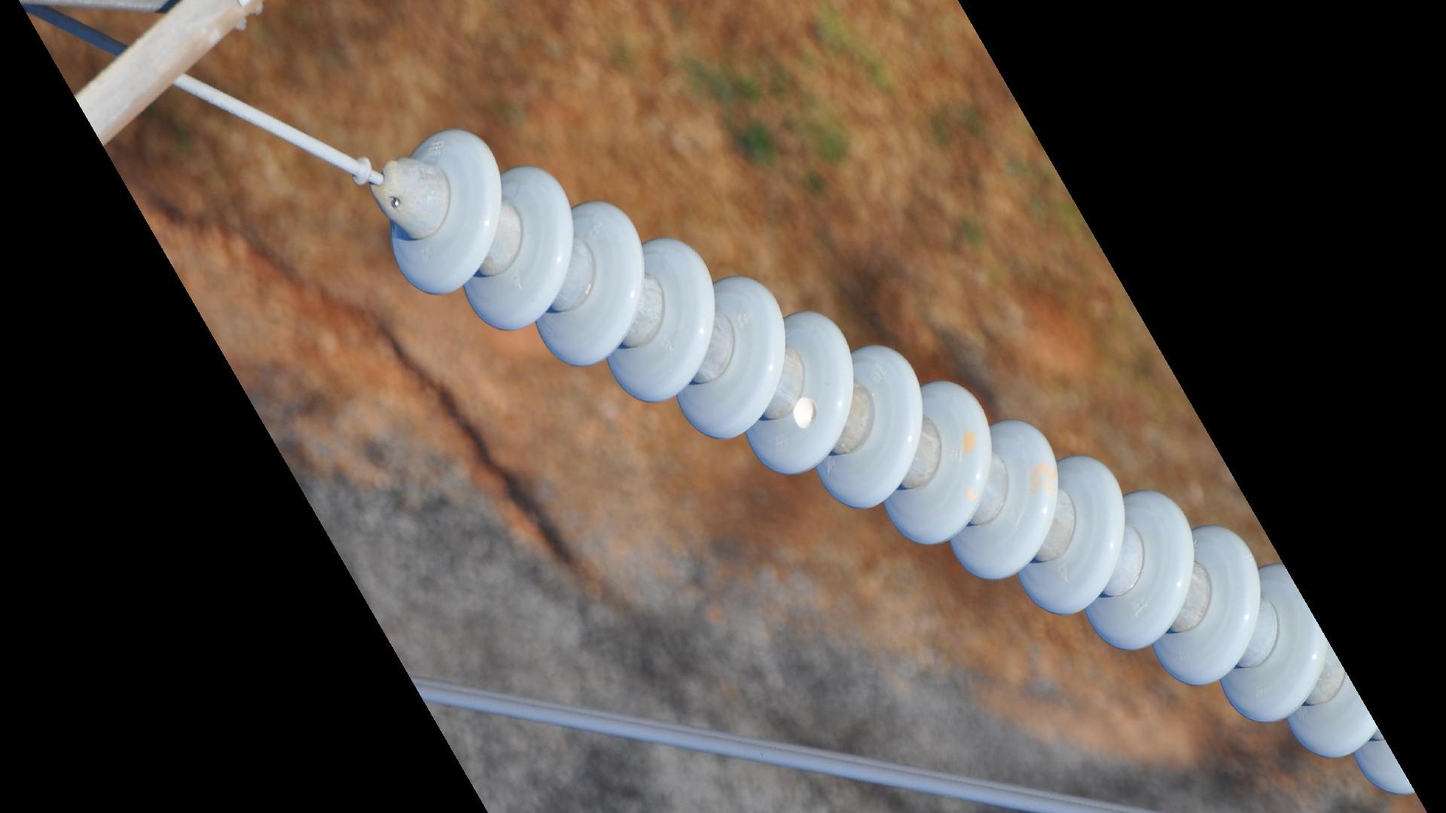insulator: (384, 123, 1420, 801)
insulator_breakage: (785, 391, 827, 440)
